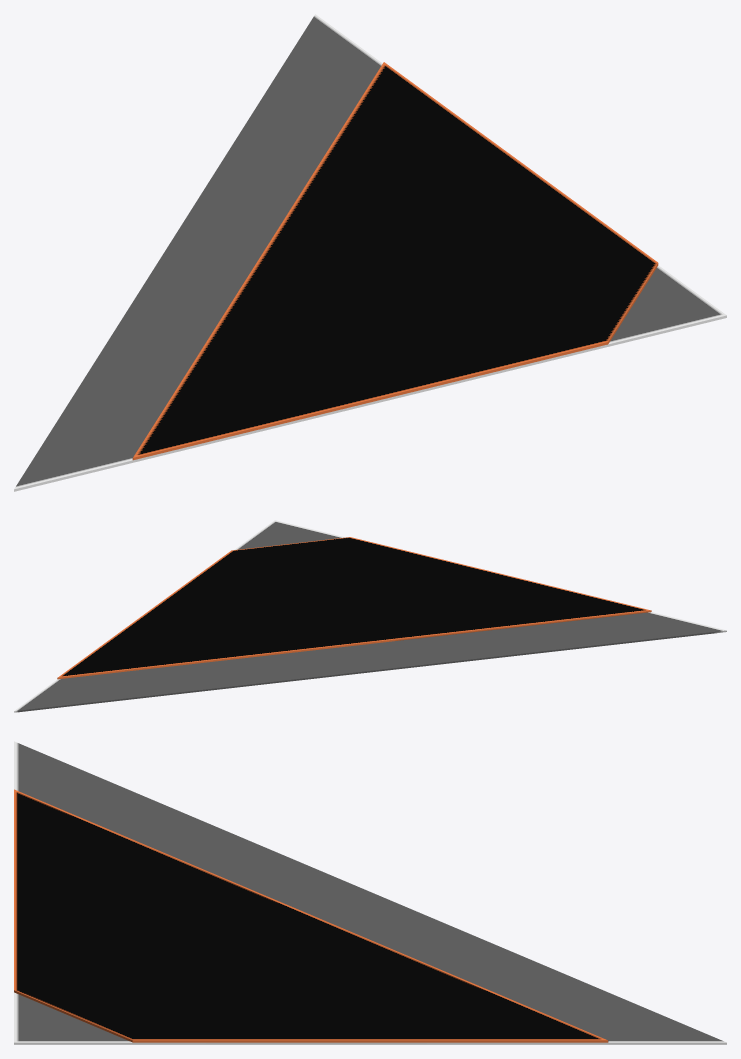
Rendered from RoadCornerSmall01.obj.
3 renders of one model, top to bottom at view 1: azimuth 30°, elevation 25°; view 2: azimuth 150°, elevation 25°; view 3: azimuth 270°, elevation 25°, orthographic. The views are drawn at different scales.
Visible parts, largest first — view 1: Cube3_extract3, Cube1_extract2; view 2: Cube3_extract3, Cube1_extract2; view 3: Cube3_extract3, Cube1_extract2.
Part boxes in pixels (x1,y1,x2,y2): Cube3_extract3: [132, 62, 658, 460]; Cube1_extract2: [14, 14, 726, 491]; Cube3_extract3: [57, 537, 651, 679]; Cube1_extract2: [14, 520, 726, 712]; Cube3_extract3: [14, 789, 608, 1042]; Cube1_extract2: [14, 741, 726, 1044].
Bounding box in the file's own units: 30 × 0.2 × 30.
Materials: 2 (2 with a texture image).
